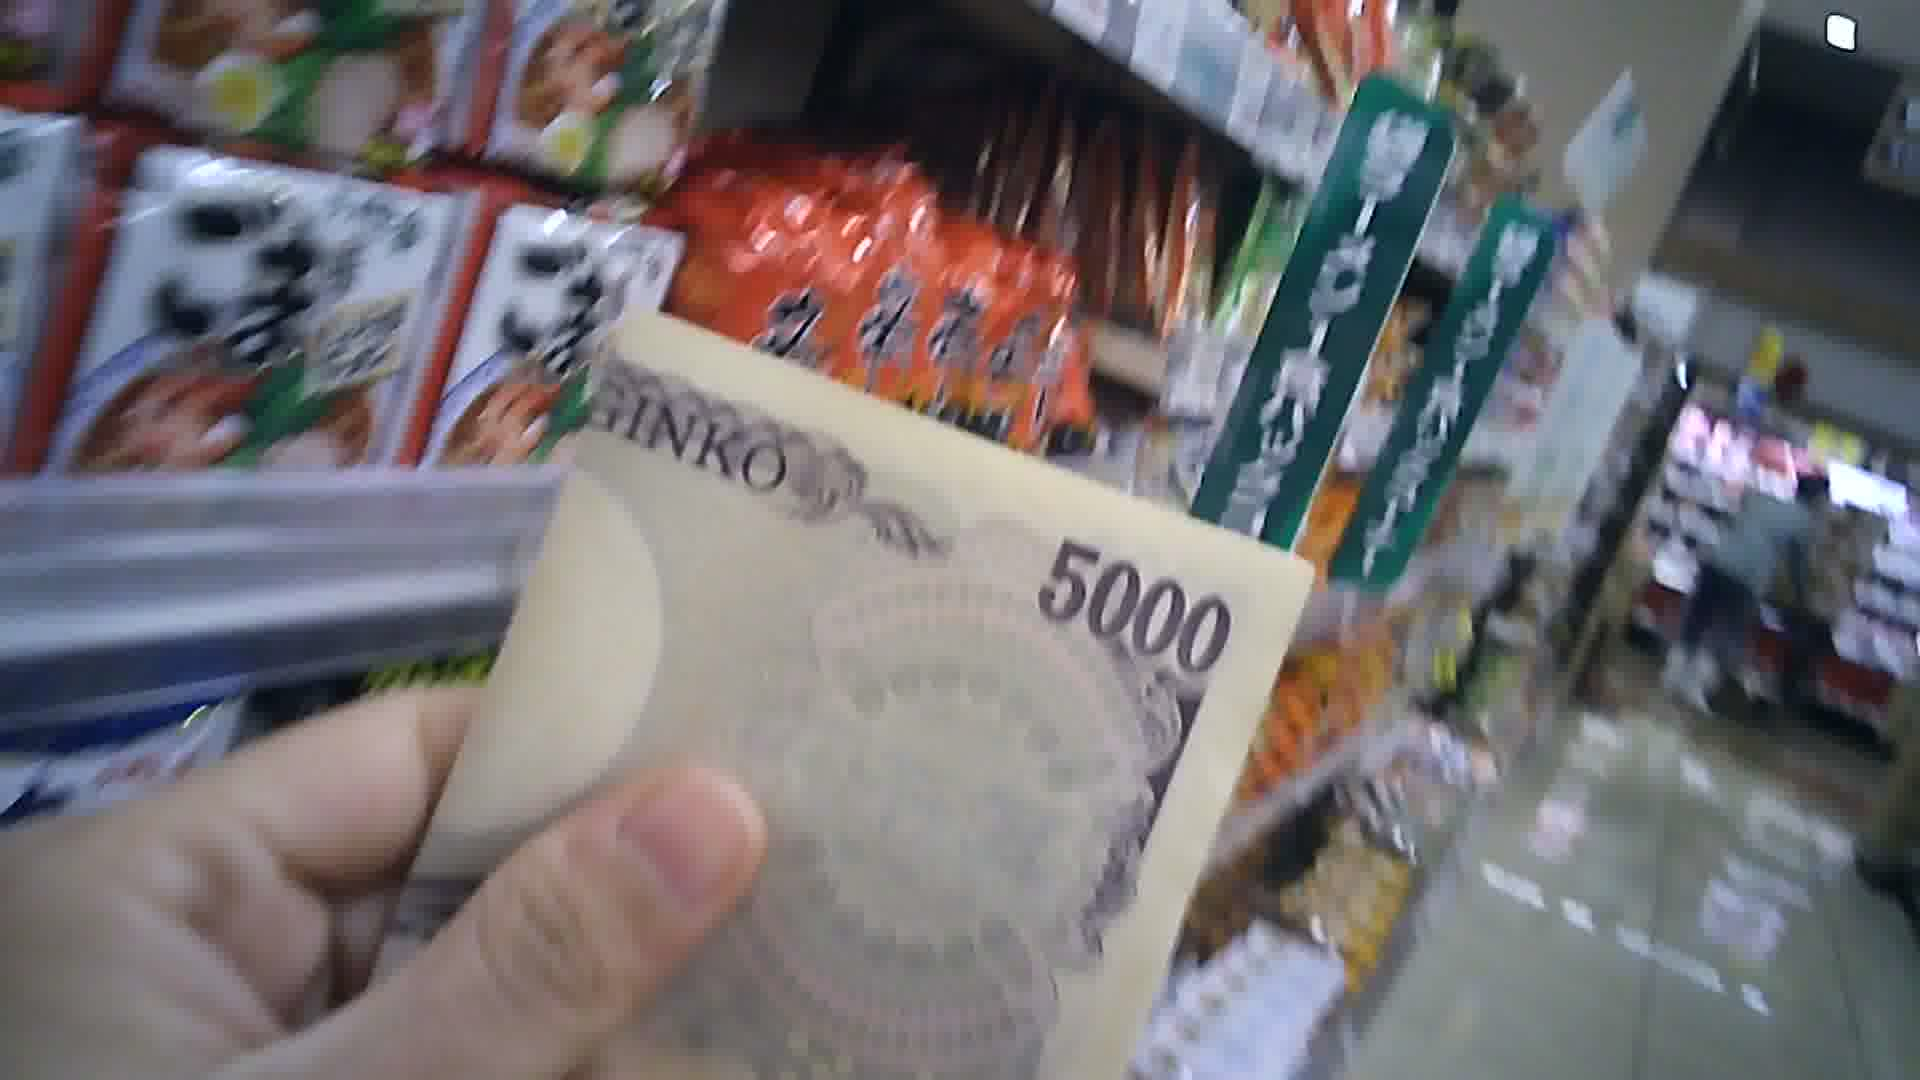5,000 Yen: (388, 276, 1298, 1079)
